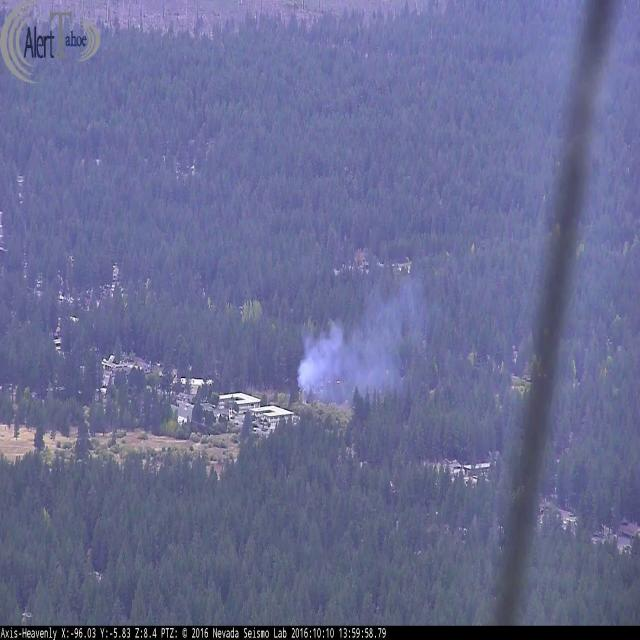smoke: (298, 270, 439, 411)
